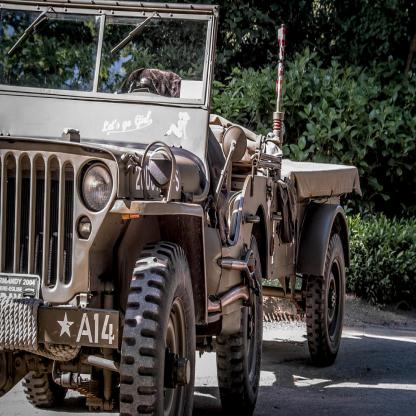Truck: (0, 0, 363, 416)
